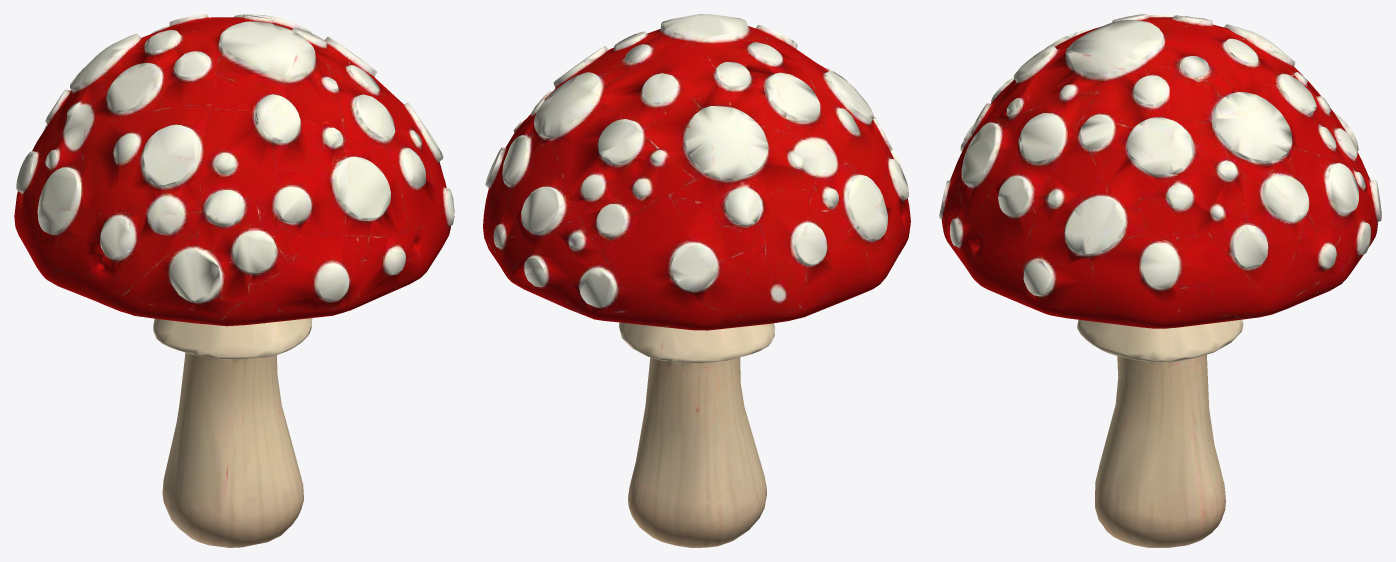
Rendered from mushroom.glb.
The picture shows the model from 3 angles, left to right: view 1: azimuth 30°, elevation 25°; view 2: azimuth 150°, elevation 25°; view 3: azimuth 270°, elevation 25°; orthographic projection. The views are drawn at different scales.
Bounding box in the file's own units: 1.49 × 1.9 × 1.52.
Materials: 1 (1 with a texture image).
